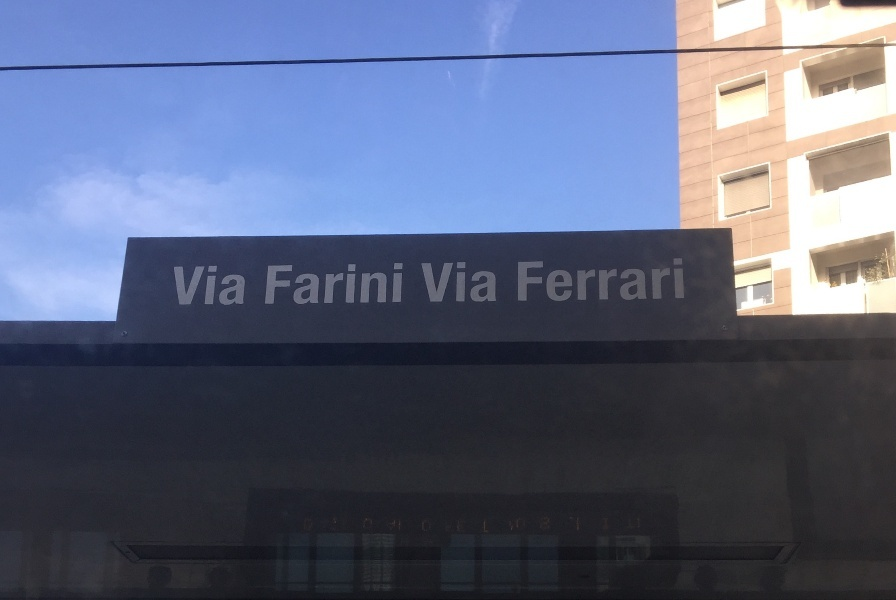text: (529, 257, 544, 305), (545, 257, 560, 305), (561, 257, 576, 305), (577, 257, 592, 305), (593, 257, 608, 305), (609, 257, 624, 305), (625, 257, 640, 305), (641, 257, 656, 305), (657, 257, 672, 305), (673, 257, 687, 305), (273, 263, 288, 307), (289, 263, 304, 307), (305, 263, 320, 307), (321, 263, 336, 307), (337, 263, 352, 307), (353, 263, 368, 307), (369, 263, 384, 307), (385, 263, 400, 307), (433, 262, 448, 305), (449, 262, 464, 305), (465, 262, 480, 305), (481, 262, 496, 305), (177, 266, 192, 308), (193, 266, 208, 308), (209, 266, 224, 308), (225, 266, 240, 308), (517, 257, 528, 305), (421, 262, 432, 305), (241, 266, 247, 308), (305, 517, 320, 533), (321, 517, 336, 533), (337, 517, 352, 533), (353, 517, 368, 533), (369, 517, 384, 533), (385, 517, 400, 533), (401, 517, 416, 533), (417, 517, 432, 533), (433, 517, 448, 533), (449, 517, 464, 533), (465, 517, 480, 533), (481, 517, 496, 533), (497, 517, 512, 533), (513, 517, 528, 533), (529, 517, 544, 533), (545, 517, 560, 533), (561, 517, 576, 533), (577, 517, 592, 533), (593, 517, 608, 533), (609, 517, 624, 533), (625, 517, 640, 533), (267, 263, 272, 307), (172, 266, 176, 308), (401, 263, 404, 307), (497, 262, 499, 305), (303, 517, 304, 533), (641, 517, 642, 533)
